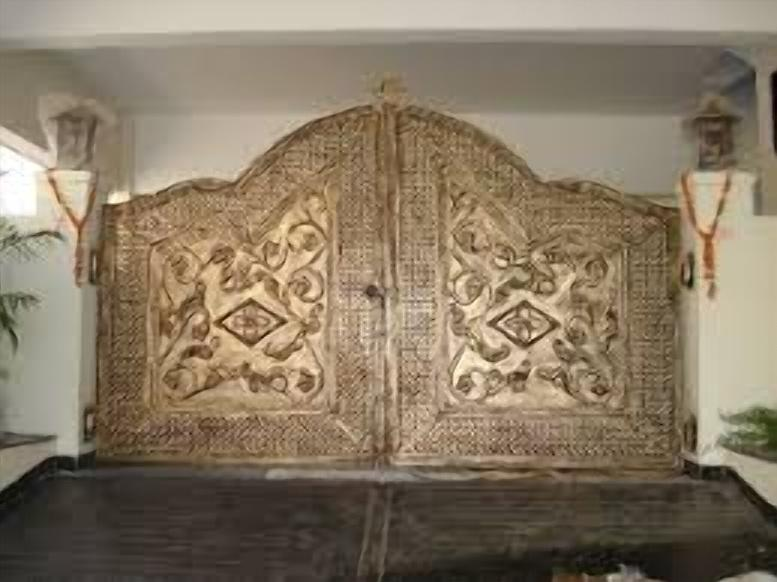Gate: (90, 101, 683, 474)
